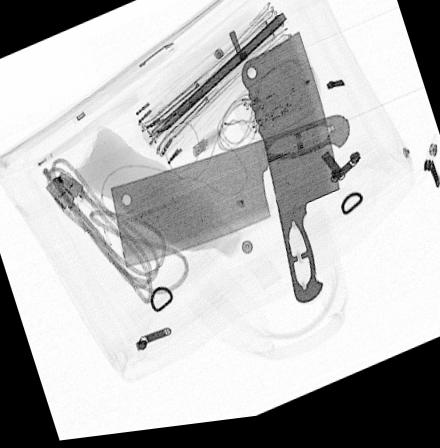Knife: (109, 121, 349, 270), (240, 37, 338, 311)
